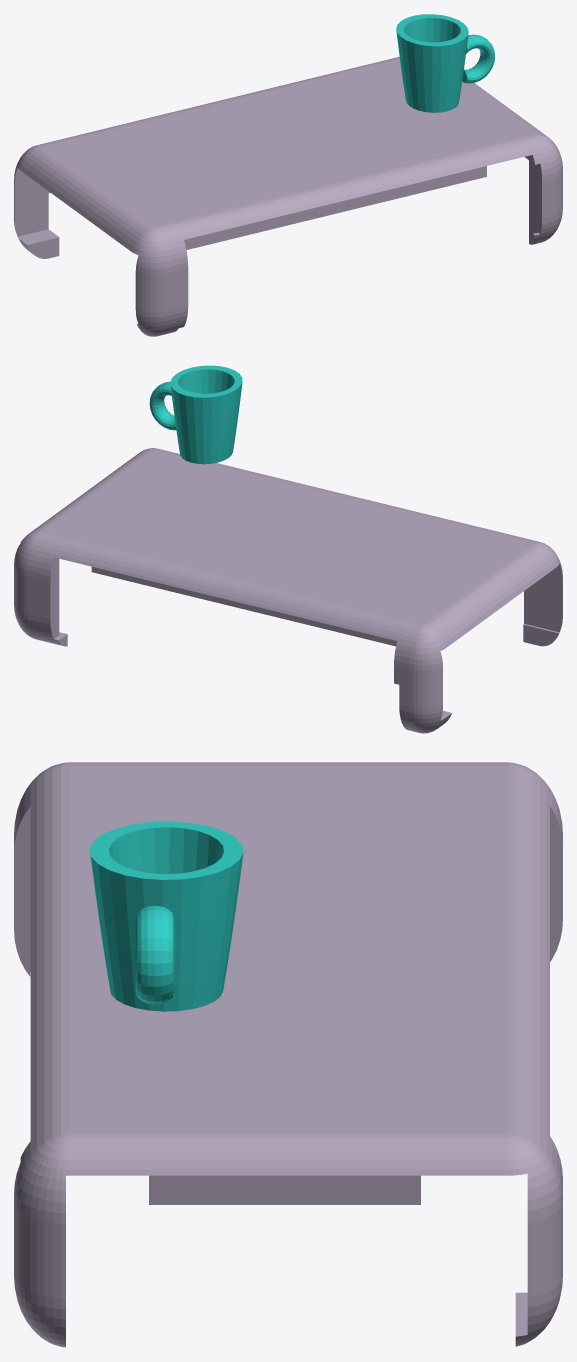
File: Table Model.glb
3 views of the same model, one above another, from view 1: azimuth 30°, elevation 25°; view 2: azimuth 150°, elevation 25°; view 3: azimuth 270°, elevation 25° (orthographic). The views are drawn at different scales.
Visible parts, largest first — view 1: Mesh_Mesh_head_geo.001_lambert2SG.001; view 2: Mesh_Mesh_head_geo.001_lambert2SG.001; view 3: Mesh_Mesh_head_geo.001_lambert2SG.001.
Part boxes in pixels (x1,y1,x2,y2): Mesh_Mesh_head_geo.001_lambert2SG.001: [14, 14, 562, 336]; Mesh_Mesh_head_geo.001_lambert2SG.001: [14, 365, 562, 733]; Mesh_Mesh_head_geo.001_lambert2SG.001: [14, 762, 562, 1347].
Bounding box in the file's own units: 82.47 × 39 × 46.4.
